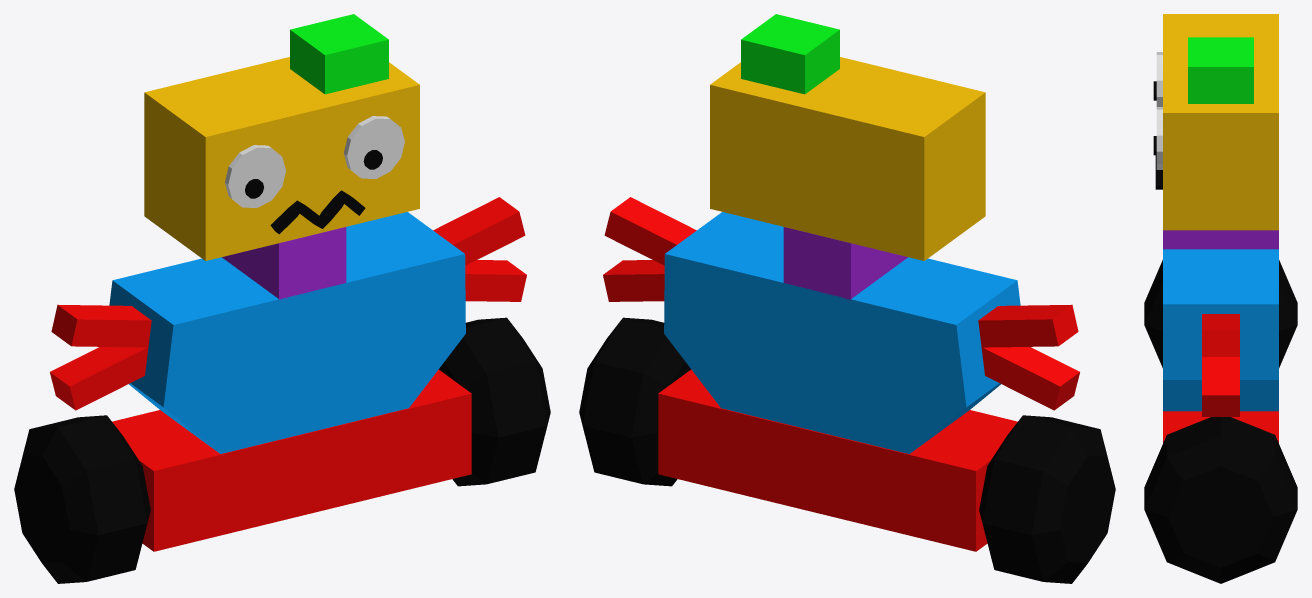
Rendered from OppenheimFBX.fbx.
The picture shows the model from 3 angles, left to right: view 1: azimuth 30°, elevation 25°; view 2: azimuth 150°, elevation 25°; view 3: azimuth 270°, elevation 25°; orthographic projection. The views are drawn at different scales.
Visible parts, largest first — view 1: Oppenheim, ArmLT, ArmLB, ArmRT, ArmRB; view 2: Oppenheim, ArmLT; view 3: Oppenheim.
Part boxes in pixels (left/top/right/bottom): Oppenheim: left=14, top=14, right=550, bottom=583; ArmLT: left=51, top=304, right=151, bottom=347; ArmLB: left=70, top=347, right=148, bottom=410; ArmRT: left=453, top=212, right=525, bottom=265; ArmRB: left=465, top=274, right=526, bottom=301; Oppenheim: left=579, top=14, right=1115, bottom=583; ArmLT: left=978, top=304, right=1078, bottom=347; Oppenheim: left=1144, top=14, right=1297, bottom=583.
Bounding box in the file's own units: 545 × 521 × 159.
